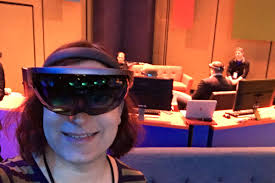hololens: (18, 65, 135, 116)
